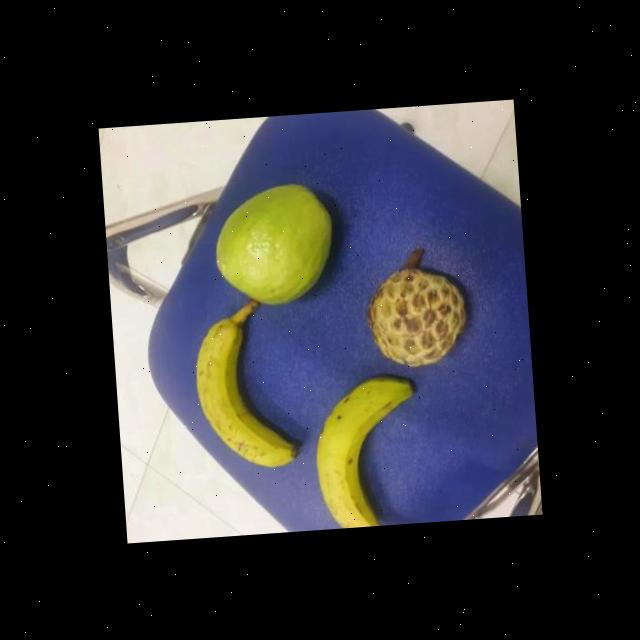Sakya fruit: (362, 243, 472, 367)
banana: (190, 293, 301, 468), (307, 369, 423, 528)
guava: (215, 176, 338, 308)
